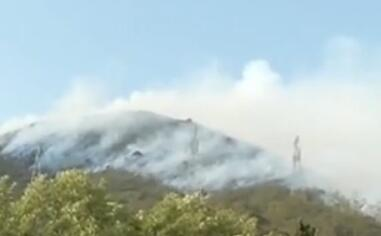yanwu: (0, 37, 380, 203)
